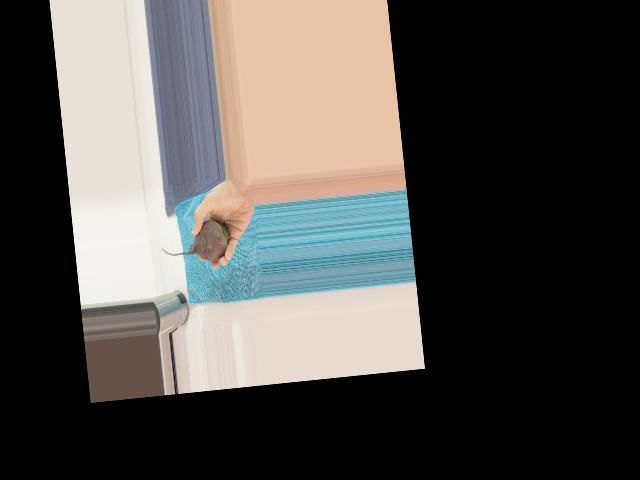beet: (159, 218, 233, 267)
